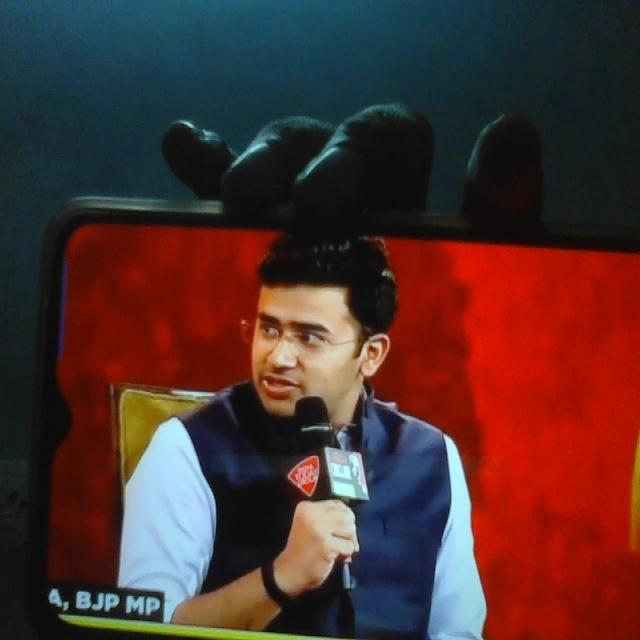fake: (234, 213, 362, 455)
